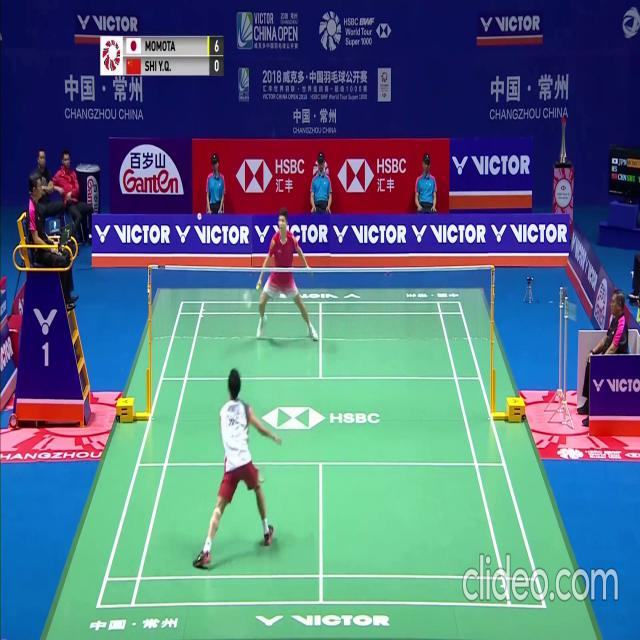Shuttlecock: (197, 213, 202, 220)
